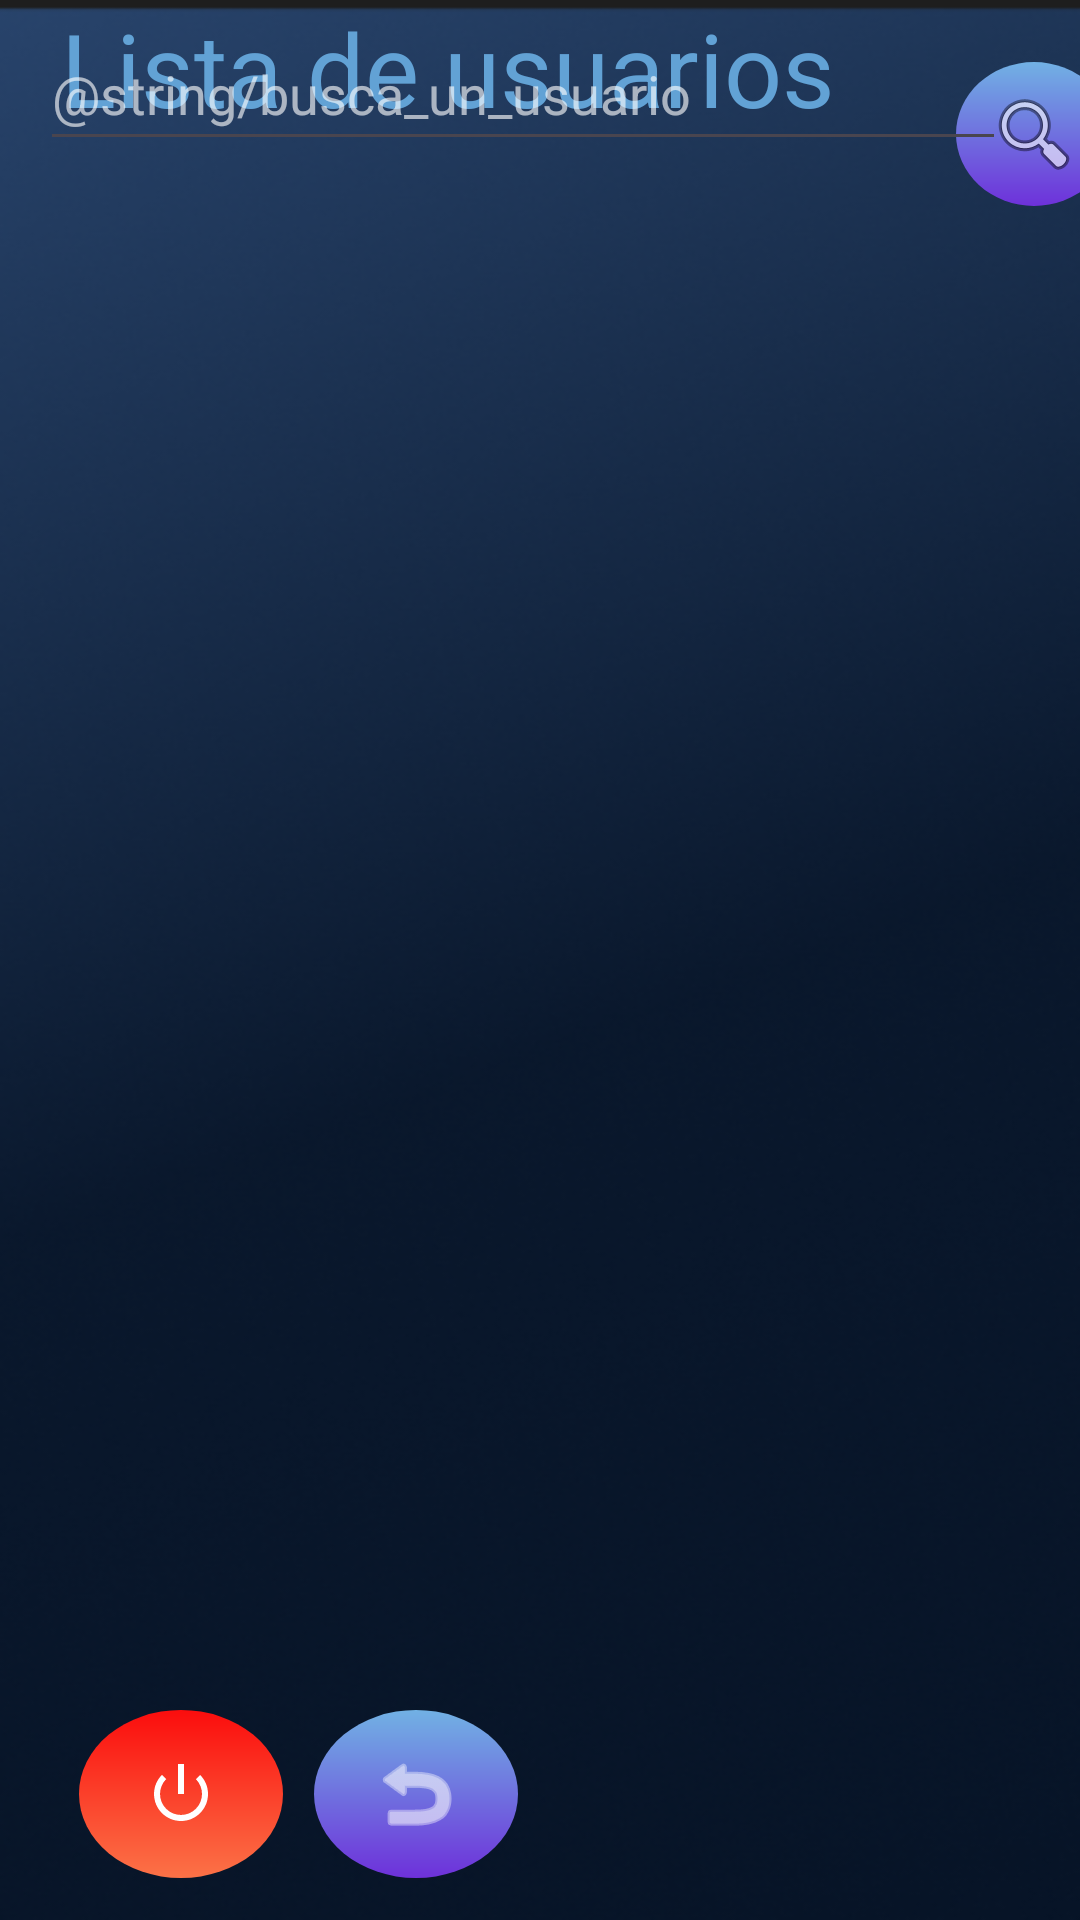

Where to tap for icons on this 1080×1920 app screen, as point (x, y):
lock power off: point (181, 1794)
revert: point (416, 1794)
